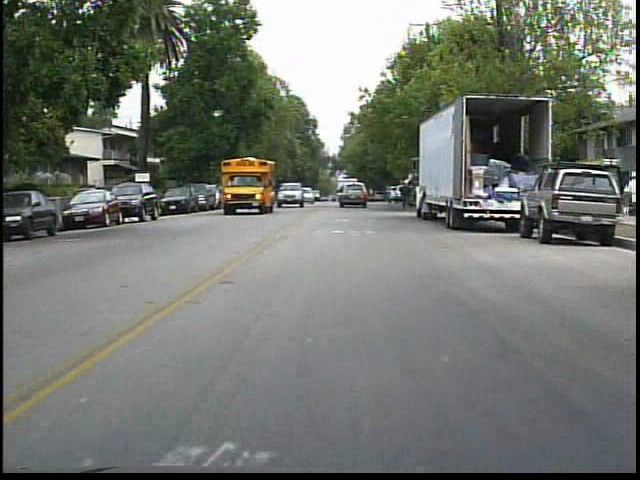person: (397, 176, 418, 218)
